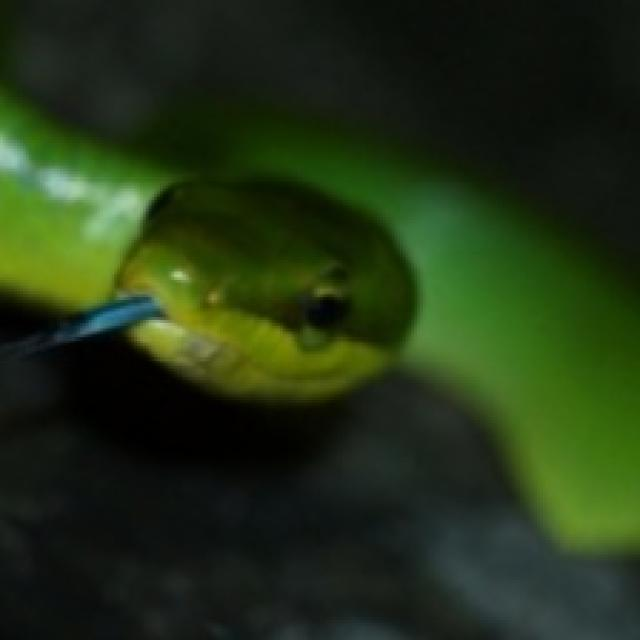red-tailed green ratsnake: (0, 87, 640, 553)
